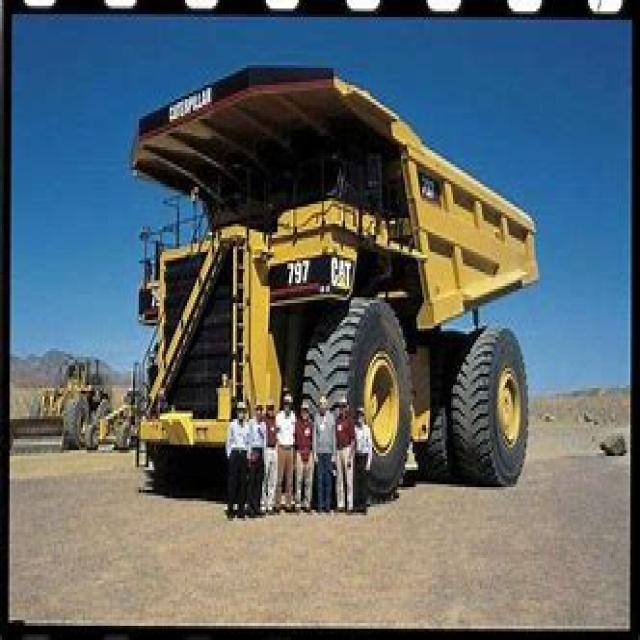dump_truck: (114, 54, 553, 501)
